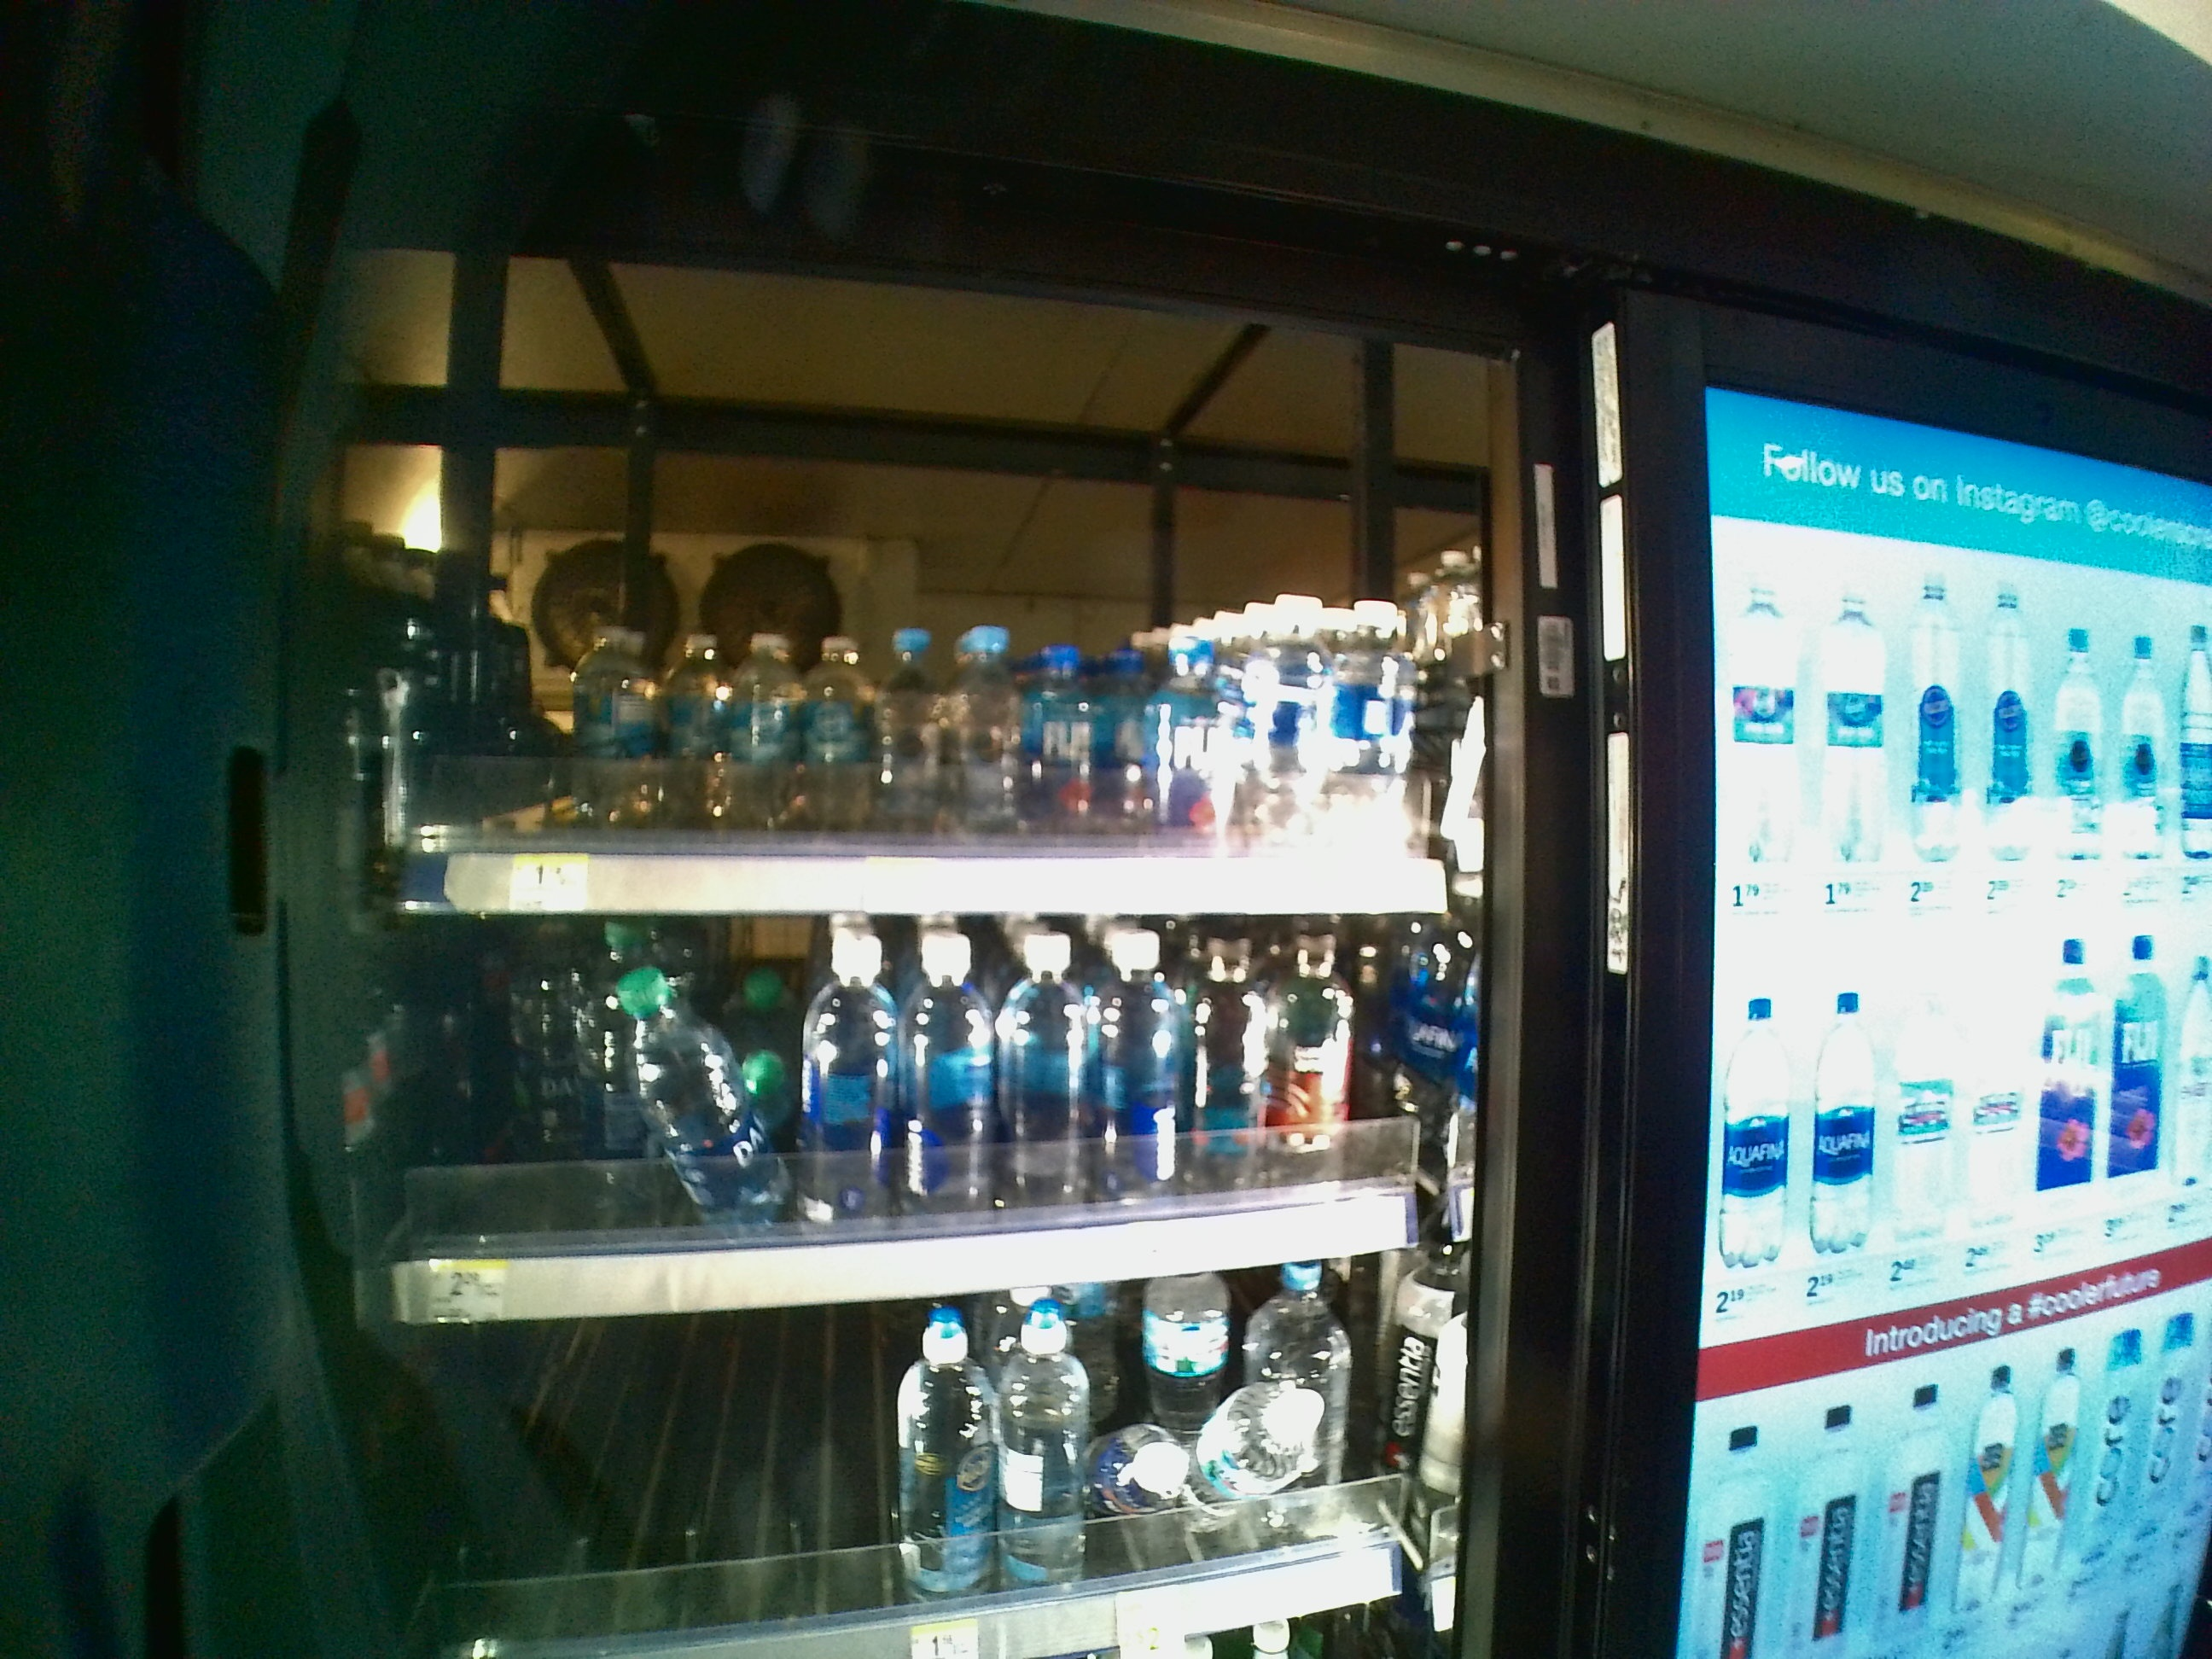shelf: (361, 249, 1536, 918), (364, 918, 1533, 1326)
